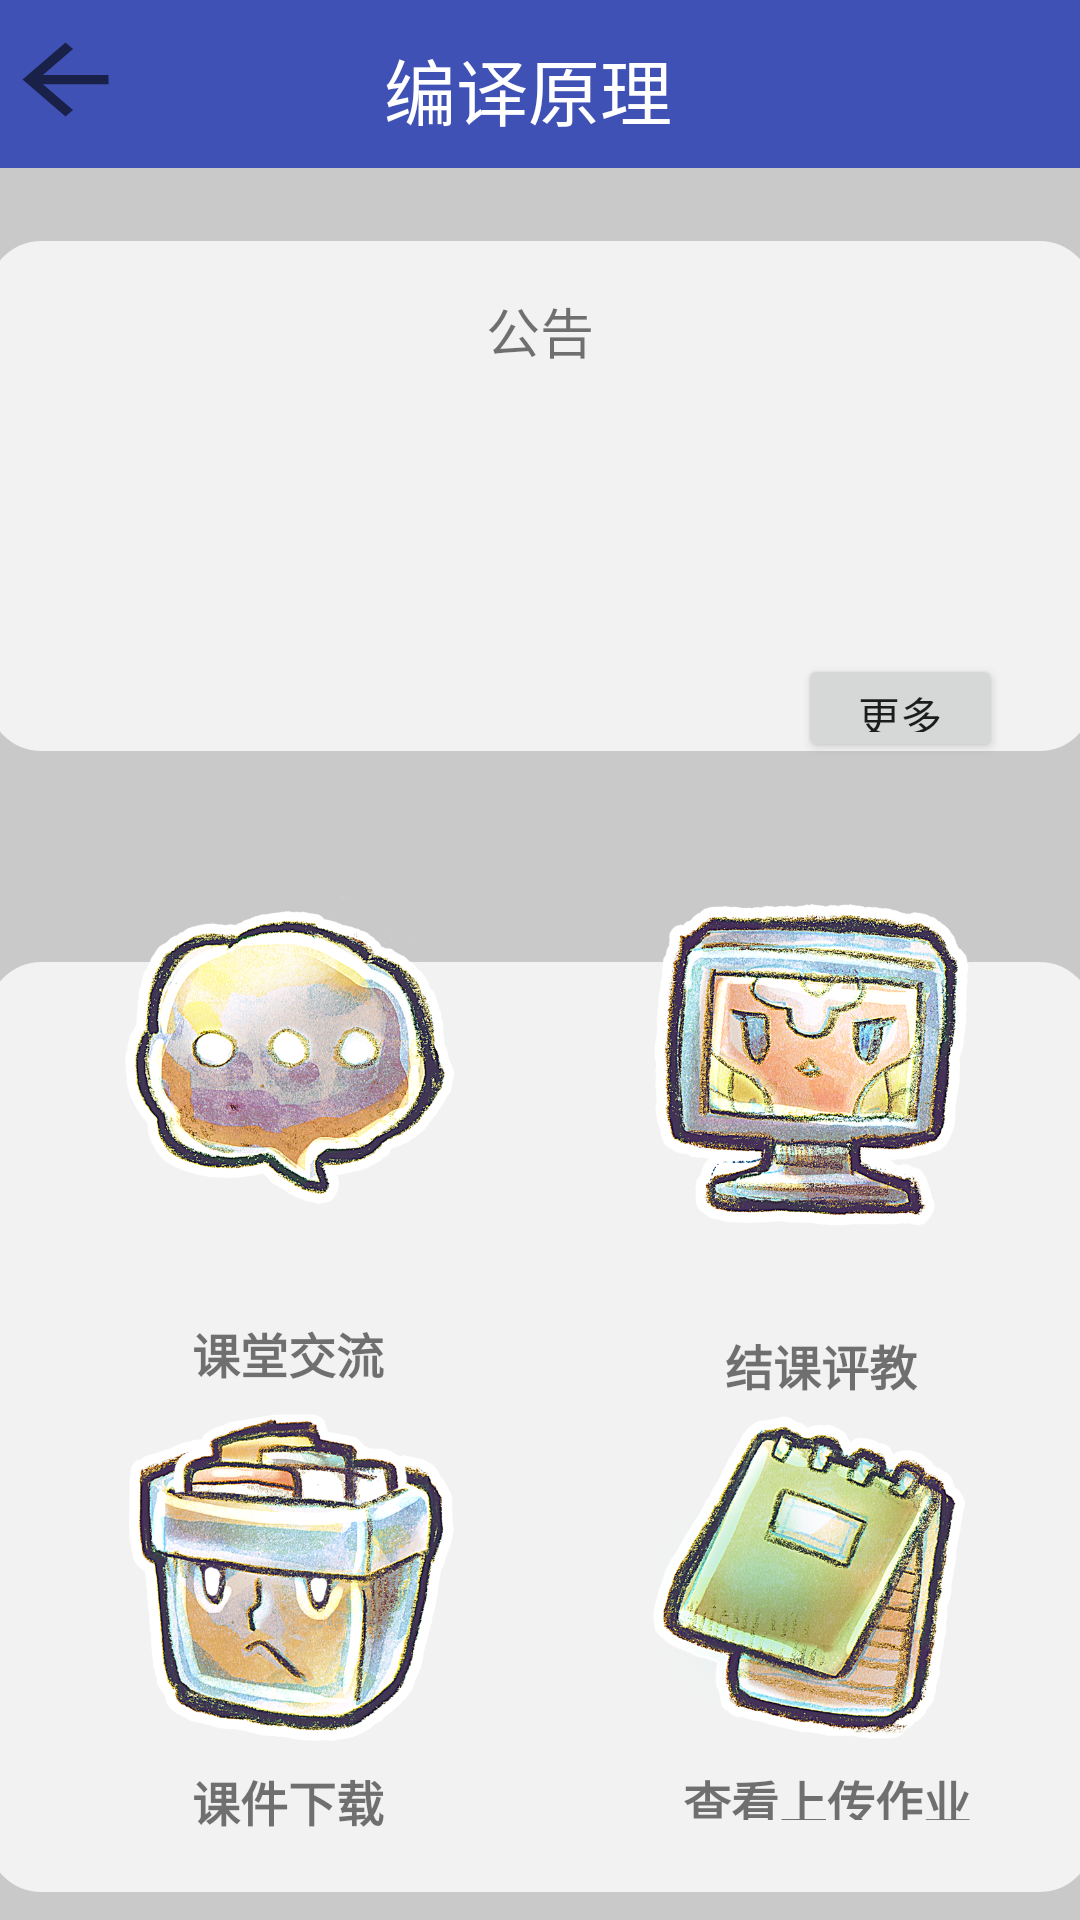

Icon bounding boxes for this 1080x1920 phone screenshot, format (x1, y1, x2, y2):
communicate: (135, 921, 445, 1194)
